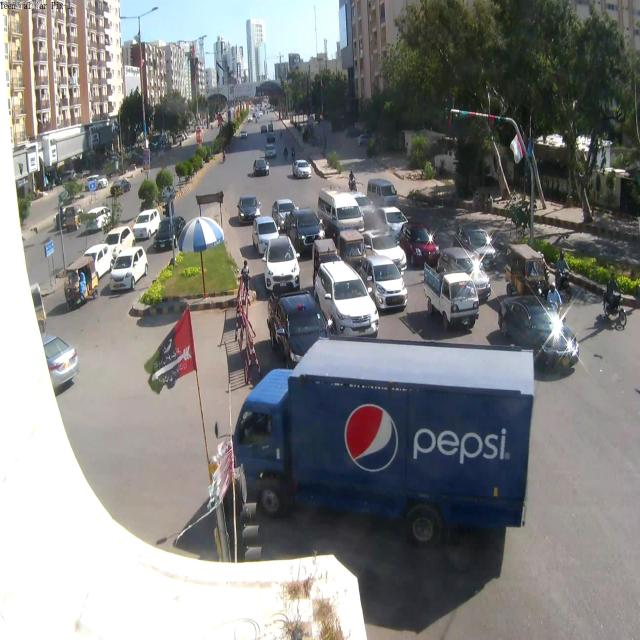car: (490, 288, 579, 374), (312, 264, 379, 338), (416, 256, 479, 332), (356, 252, 411, 313), (451, 219, 498, 269), (110, 243, 150, 300), (281, 208, 330, 252), (267, 235, 295, 293), (399, 223, 438, 264), (371, 205, 412, 239), (86, 238, 107, 286), (107, 220, 131, 261), (135, 205, 161, 240), (251, 216, 282, 245), (236, 193, 262, 224)
motorbike: (602, 270, 628, 326), (557, 252, 573, 300), (349, 170, 357, 192), (282, 146, 289, 162), (222, 147, 226, 164), (291, 144, 295, 159)
truck: (220, 332, 540, 560)
